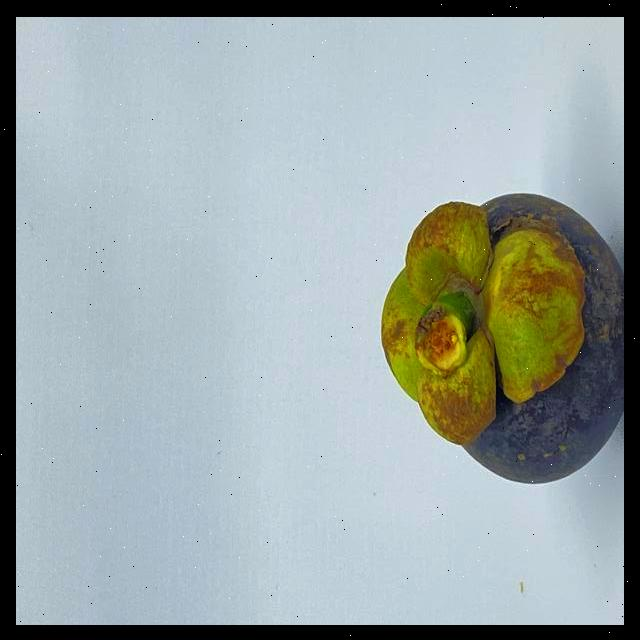mangosteen: (354, 172, 624, 484)
